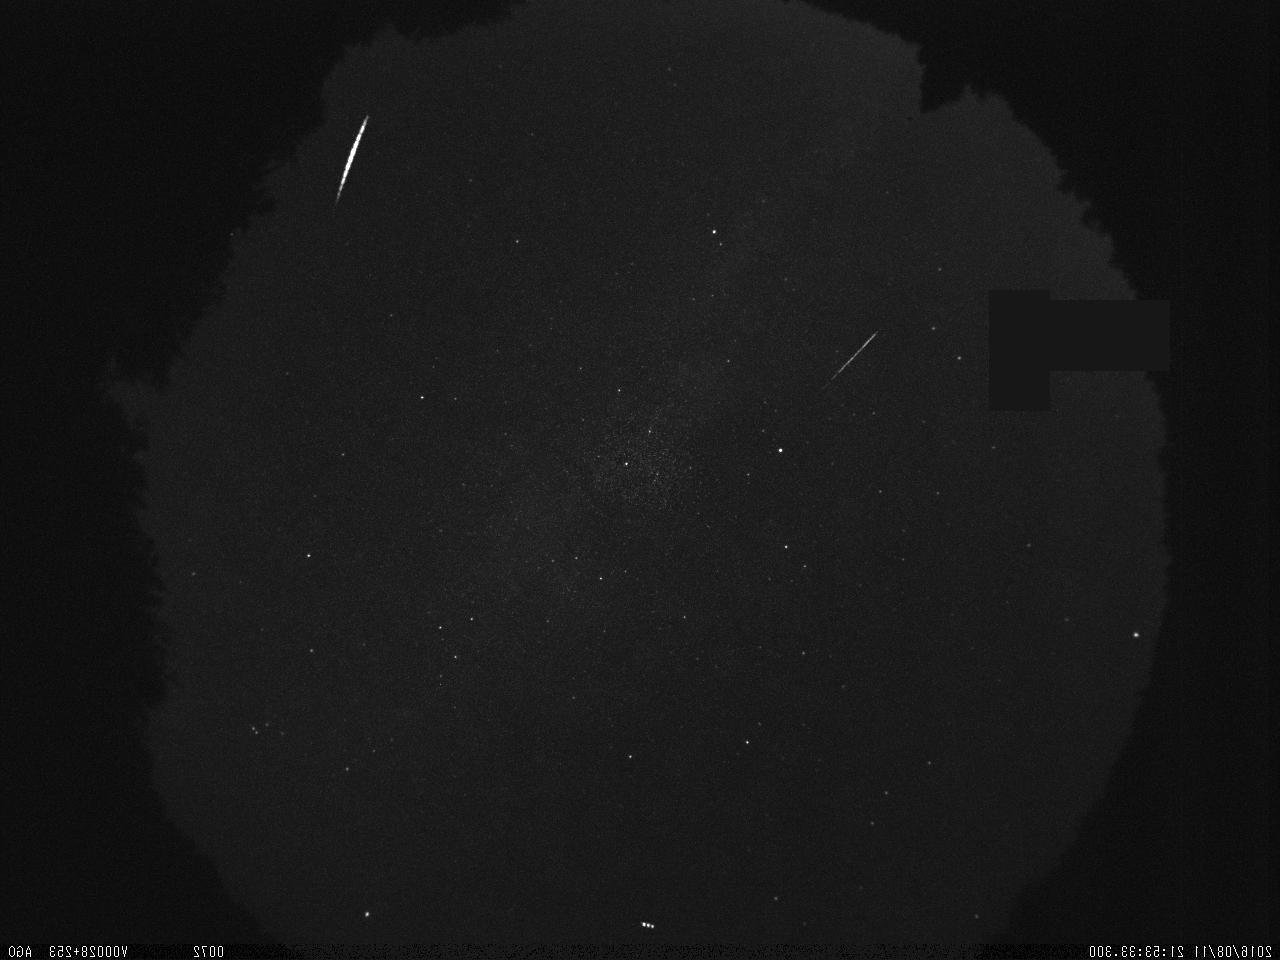meteor: (789, 298, 908, 422), (304, 88, 399, 238)
